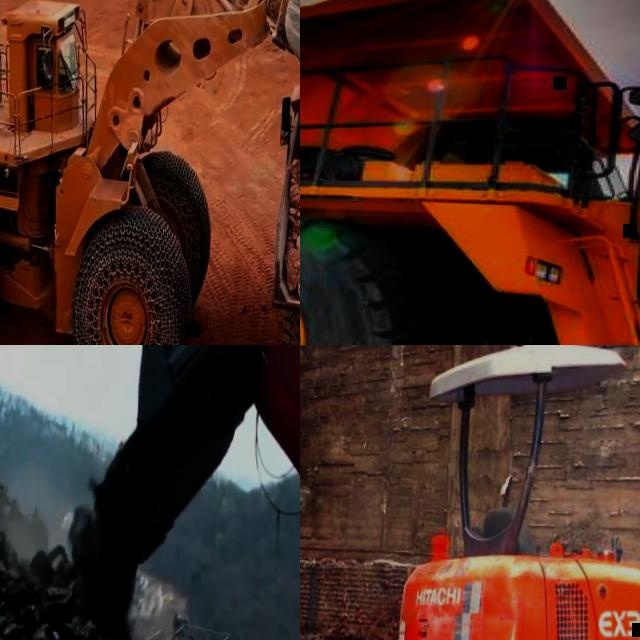machinery: (300, 0, 640, 345), (0, 0, 300, 345), (389, 345, 640, 640), (98, 345, 300, 640)
